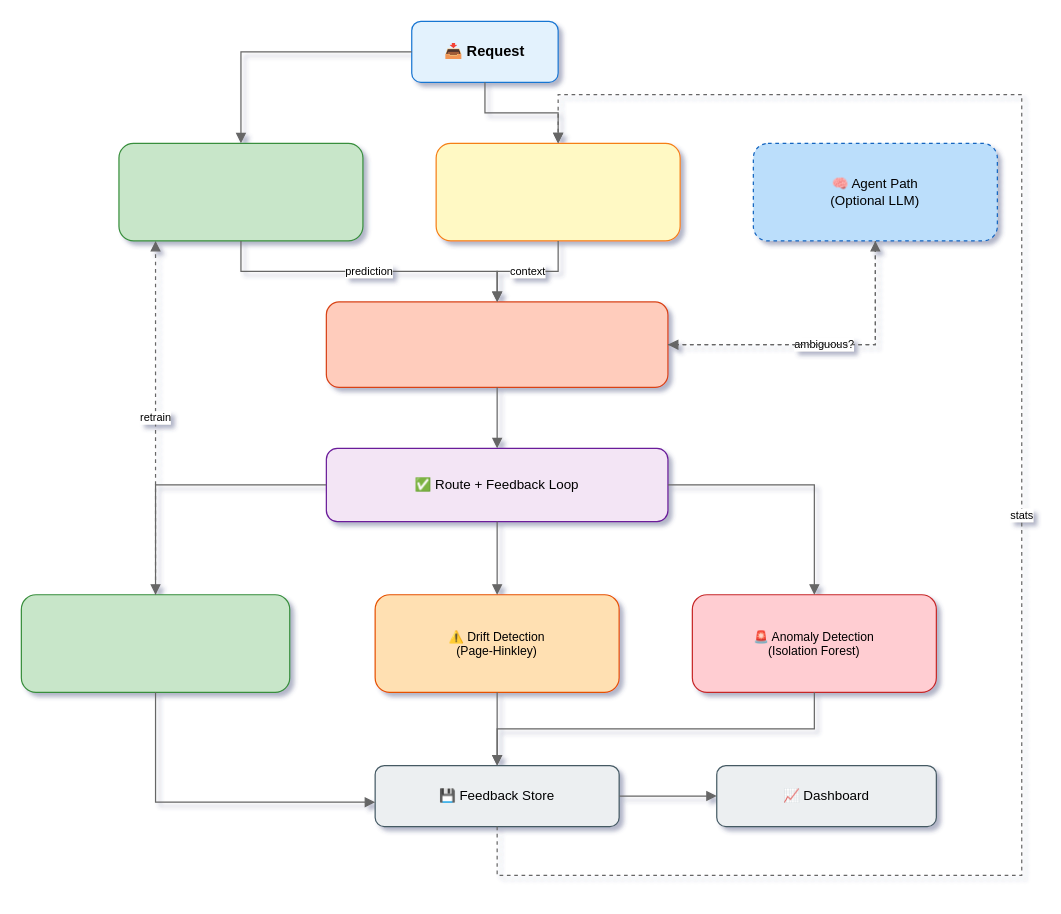
Image size: 1061x914. Some labels were removed from this diagram. Each missing label, with the centre of its shape:
"⚡ Decision Engine PRIMARY | REROUTE" belongs at (x=496, y=344).
"🎯 ML Routing (model.py, features.py)" belongs at (x=240, y=191).
"📊 Context API (11 endpoints)" belongs at (x=557, y=191).
"🔄 Feedback Learning (collector, SGD, A/B test)" belongs at (x=155, y=643).
